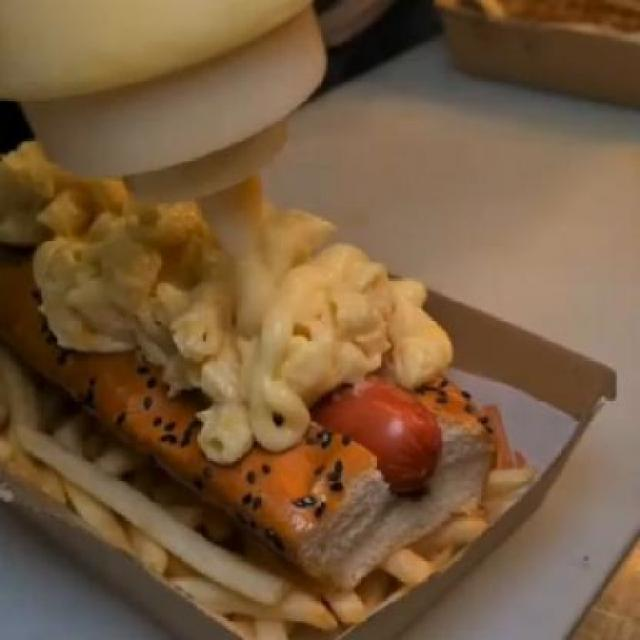hot dog: (312, 371, 443, 487)
